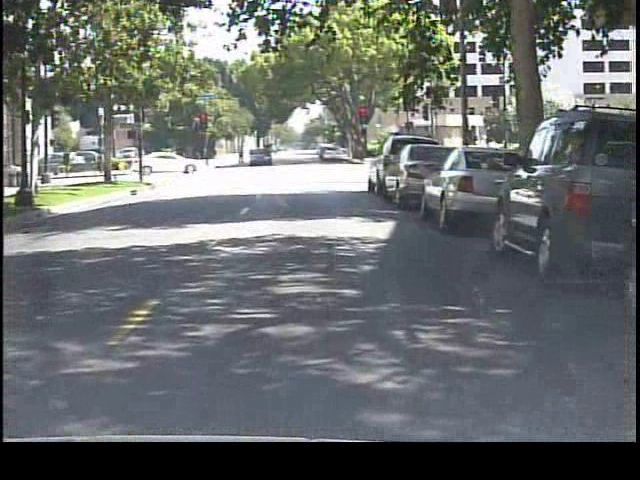person: (236, 140, 250, 166)
